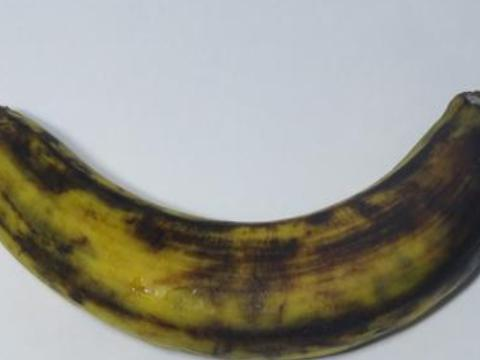overripe: (0, 64, 479, 359)
rotten: (376, 80, 479, 252)
